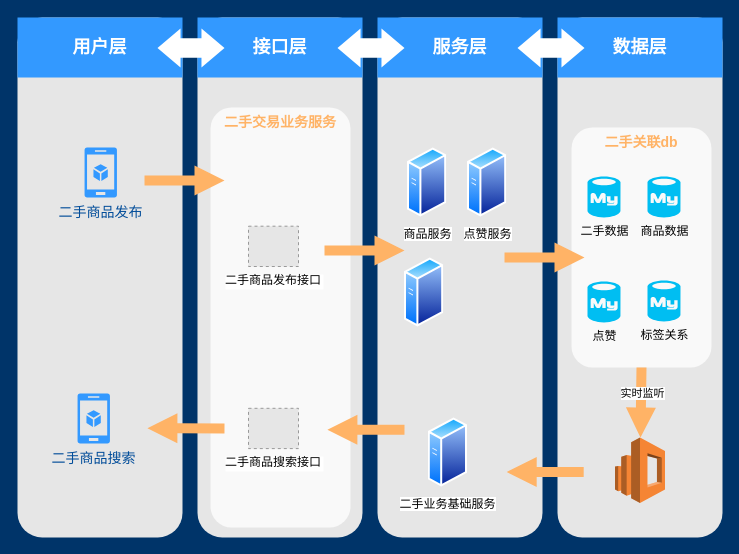
Some shapes in this 739 by 554 pixel diagram are drawn without their labels. Grey dashed boxes stand in for pictures. Here are the shapes that lost their labels. From the top down, the centre of each, then its label:
(423,292): 内容标签服务
(639,469): 二手商品实时引擎
